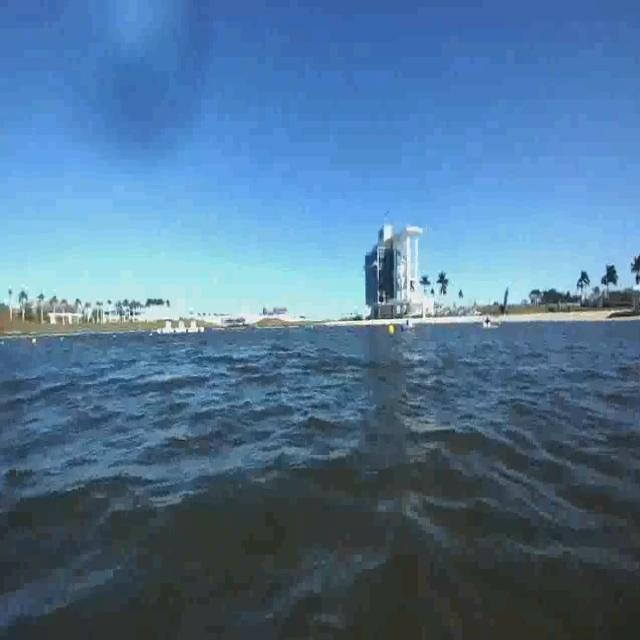yellow-buoy: (386, 325, 393, 339)
